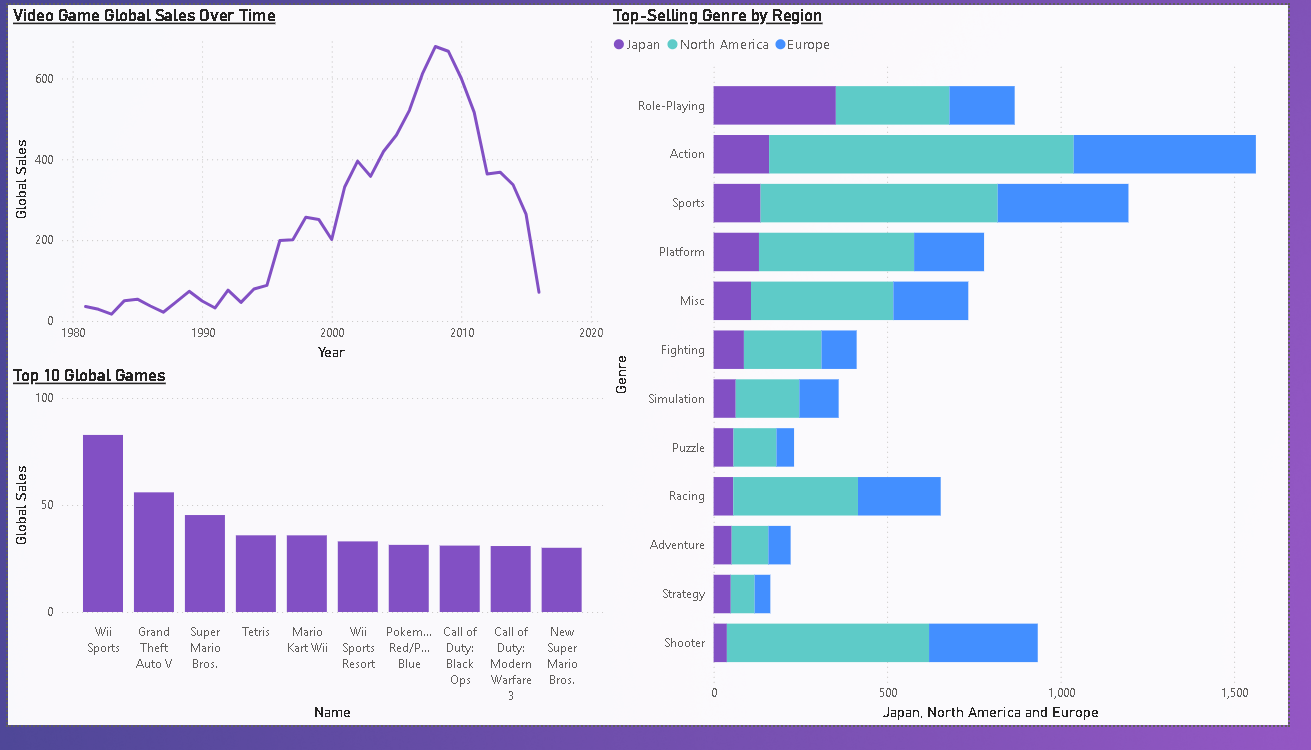

The page's visual inventory and layout, read from the dashboard file:
{"tool":"powerbi","page":{"name":"Global Market Trends","canvas":[1280,720],"ordinal":0},"visuals":[{"type":"lineChart","title":"Video Game Global Sales Over Time","fields":{"Category":["cleaned_vgsales.Year"],"Y":["Sum(cleaned_vgsales.Global_Sales)"]},"box":[0,0,600,360],"z":0},{"type":"barChart","title":"Top-Selling Genre by Region","fields":{"Y":["Sum(cleaned_vgsales.JP_Sales)","Sum(cleaned_vgsales.NA_Sales)","Sum(cleaned_vgsales.EU_Sales)"],"Category":["cleaned_vgsales.Genre"]},"box":[600,0,680,720],"z":2000},{"type":"clusteredColumnChart","title":"Top 10 Global Games","fields":{"Category":["cleaned_vgsales.Name"],"Y":["Sum(cleaned_vgsales.Global_Sales)"]},"box":[0,360,600,360],"z":3000}]}

Visuals, with their boxes in screenshot pixels (x1, y1, x2, y2), scaled from the page's 1280x720 canvas onto the 1311x750 screenshot:
"Video Game Global Sales Over Time" lineChart: 0, 0, 615, 375
"Top-Selling Genre by Region" barChart: 615, 0, 1310, 749
"Top 10 Global Games" clusteredColumnChart: 0, 375, 615, 749
